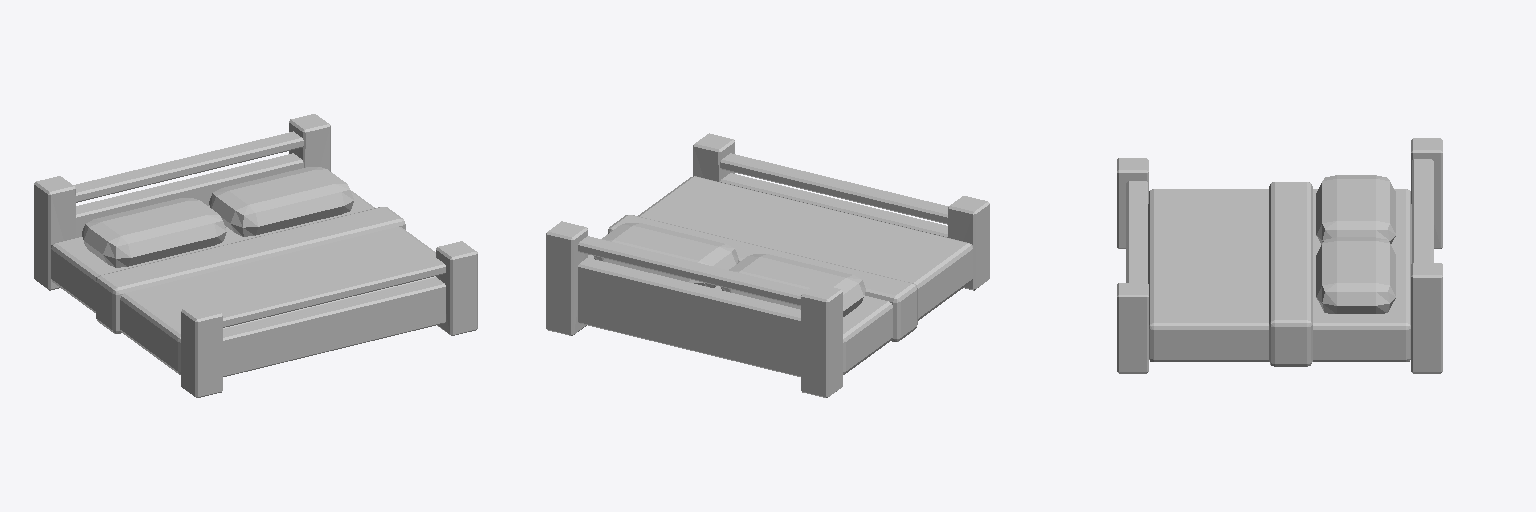
The model's file is bed_double_B.obj.
3 views of the same model, side by side, from view 1: azimuth 30°, elevation 25°; view 2: azimuth 150°, elevation 25°; view 3: azimuth 270°, elevation 25° (orthographic).
Visible parts, largest first — view 1: bed_double_B_Cube.001; view 2: bed_double_B_Cube.001; view 3: bed_double_B_Cube.001.
Part boxes in pixels (x1,y1,x2,y2): bed_double_B_Cube.001: (34, 114, 477, 397); bed_double_B_Cube.001: (546, 133, 989, 397); bed_double_B_Cube.001: (1117, 138, 1442, 373).
Size of the model in its own units: 3.1 by 1 by 3.